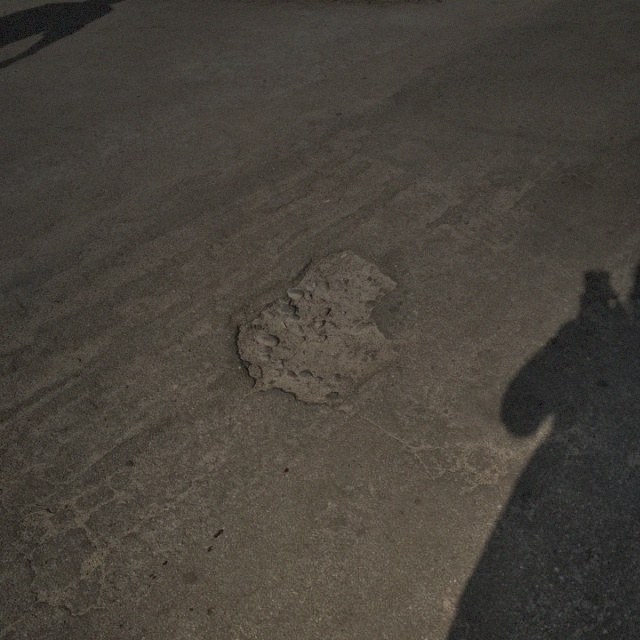pothole: (228, 247, 401, 408)
